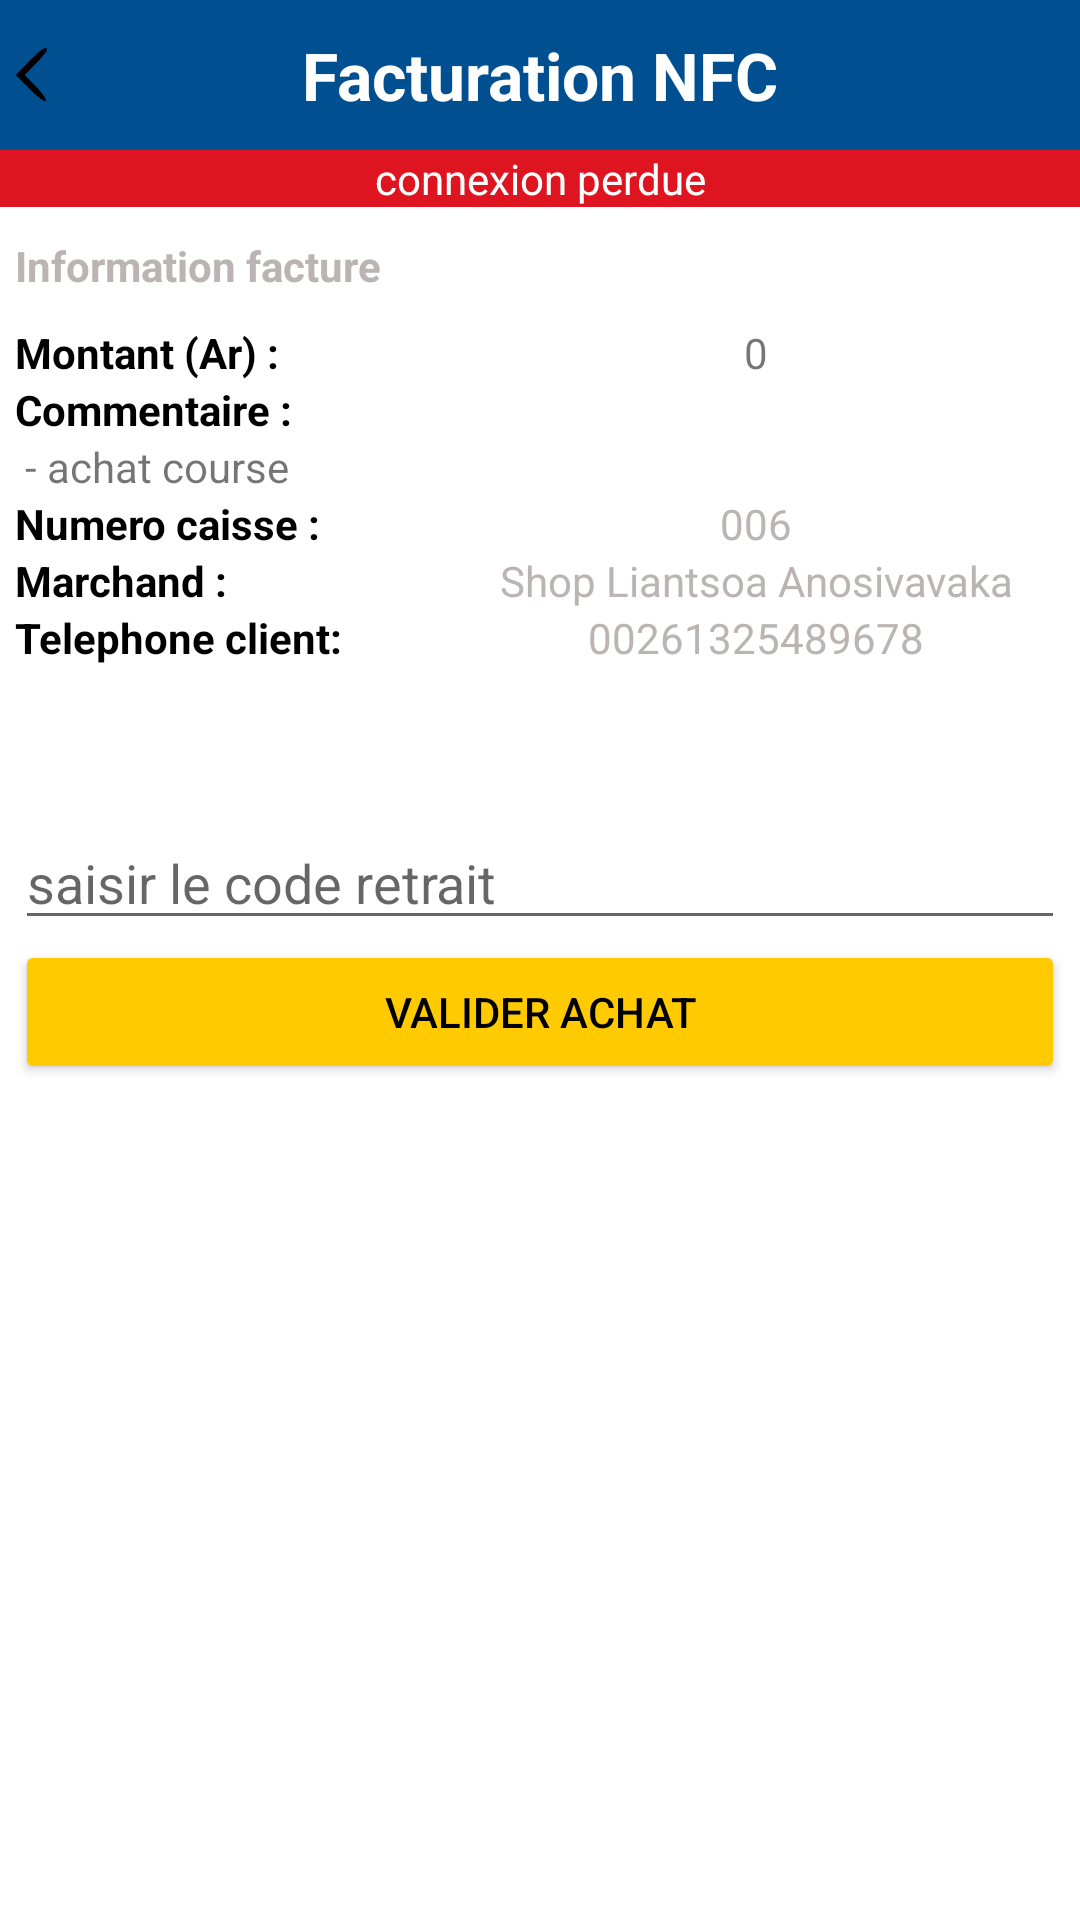

Where icons sit on this 1080px x 1920px app screen, as (x1, y1, x2, y2):
left: (16, 48, 47, 102)
